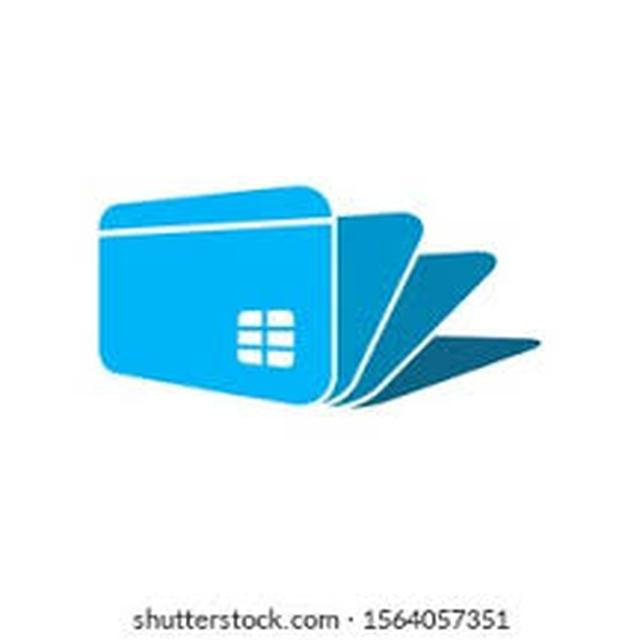card: (8, 240, 528, 419), (62, 196, 446, 408), (114, 313, 597, 441), (89, 176, 330, 412)
